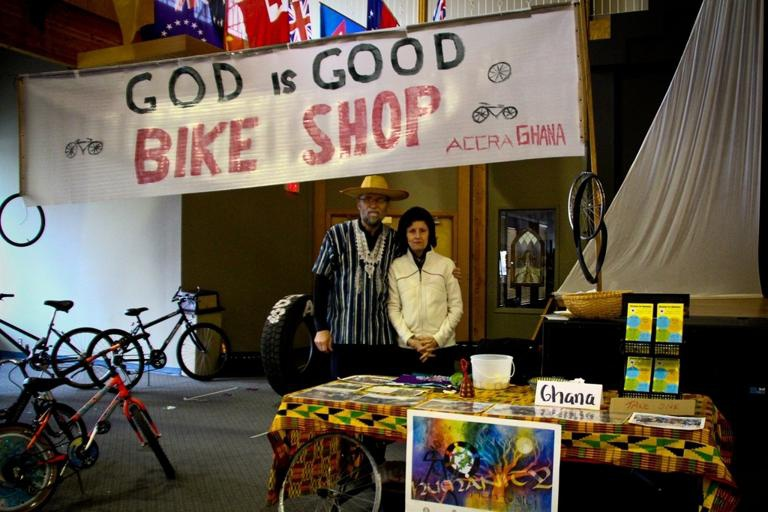non-vehicle: (0, 344, 175, 511), (86, 287, 231, 392), (0, 293, 116, 388)
